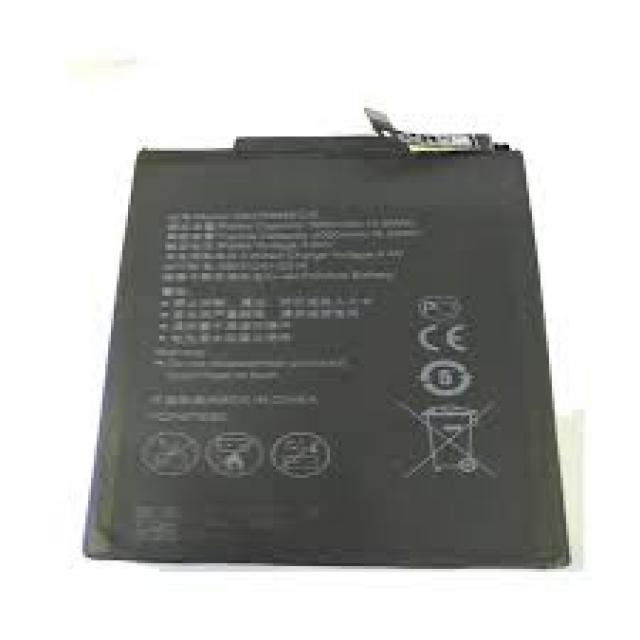non-organic waste: (80, 107, 568, 571)
